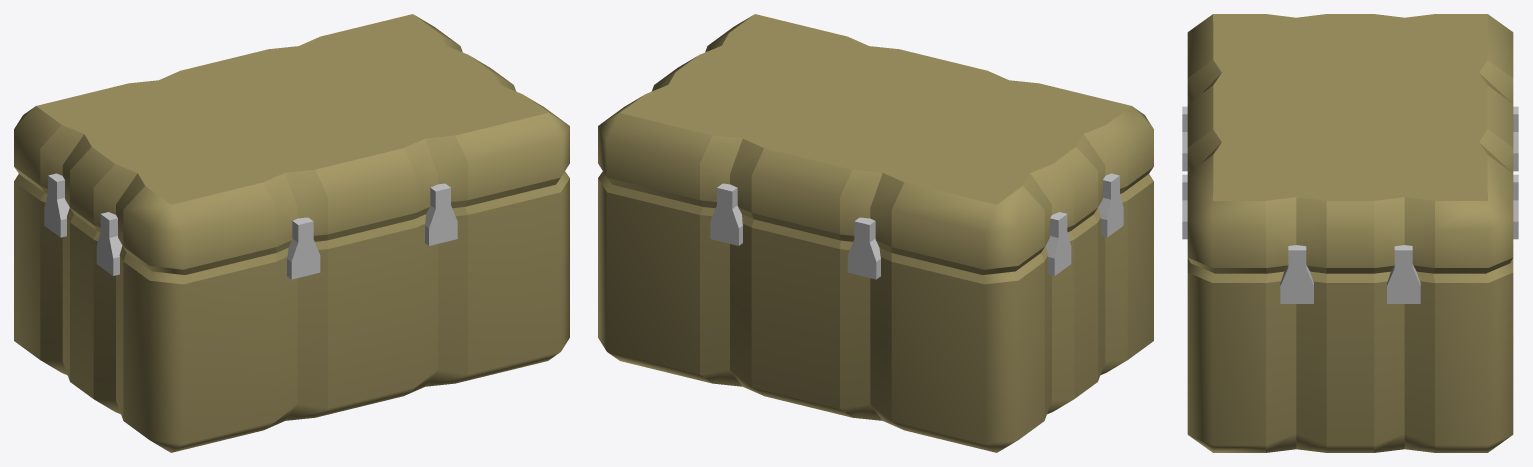
3 renders of one model, left to right at view 1: azimuth 30°, elevation 25°; view 2: azimuth 150°, elevation 25°; view 3: azimuth 270°, elevation 25°, orthographic.
Parts seen in each view (by area): view 1: box_003; view 2: box_003; view 3: box_003.
Part boxes in pixels (x1,y1,x2,y2): box_003: [14, 14, 569, 452]; box_003: [598, 14, 1153, 452]; box_003: [1182, 14, 1518, 452].
Size of the model in its own units: 141 by 94.75 by 78.44.
